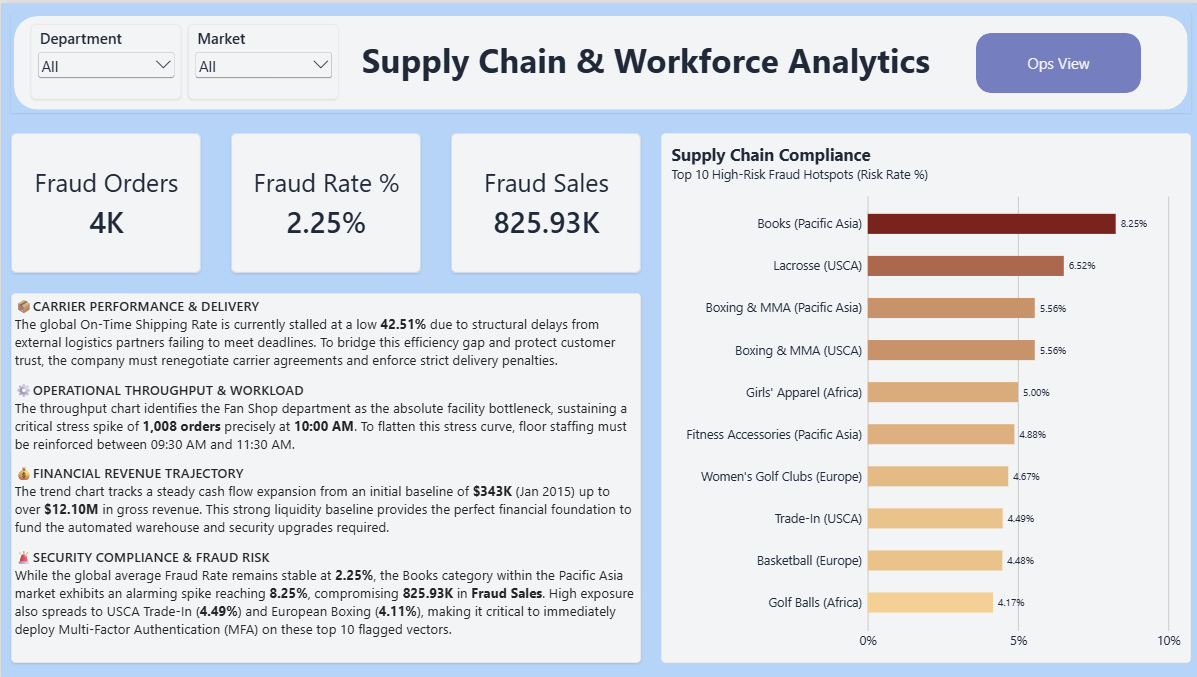

What the dashboard file says about the page in this screenshot:
{"tool":"powerbi","page":{"name":"Page 2","canvas":[1920,1080],"ordinal":1},"visuals":[{"type":"shape","box":[16,16,1888,160],"z":0},{"type":"slicer","title":"Workforce & Warehouse Analytics","fields":{"Values":["raw_data.Department Name"]},"box":[48,33.3,240,120],"z":1000},{"type":"textbox","box":[552,53.3,960,80],"z":2000},{"type":"slicer","fields":{"Values":["raw_data.Market"]},"box":[300,33.3,240,120],"z":3000},{"type":"cardVisual","fields":{"Data":["raw_data.Total Fraud Orders"]},"box":[16,208,304,224],"z":4000},{"type":"cardVisual","fields":{"Data":["raw_data.Fraud Rate %"]},"box":[368,208,304,224],"z":5000},{"type":"clusteredBarChart","title":"Supply Chain Compliance","fields":{"Category":["raw_data.Hotspot Segment"],"Y":["raw_data.Fraud Rate %"]},"box":[1056,208,848,848],"z":6000},{"type":"cardVisual","fields":{"Data":["raw_data.Fraud Revenue Lost"]},"box":[720,208,304,224],"z":7000},{"type":"textbox","box":[16,464,1008,592],"z":8000},{"type":"bookmarkNavigator","box":[1560,48,264,96],"z":9000}]}

Visuals, with their boxes in screenshot pixels (x1, y1, x2, y2), scaled from the page's 1920x1080 canvas onto the 1197x677 screenshot:
shape: (x1=10, y1=10, x2=1187, y2=110)
"Workforce & Warehouse Analytics" slicer: (x1=30, y1=21, x2=180, y2=96)
textbox: (x1=344, y1=33, x2=943, y2=84)
slicer - raw_data.Market: (x1=187, y1=21, x2=337, y2=96)
cardVisual - raw_data.Total Fraud Orders: (x1=10, y1=130, x2=200, y2=271)
cardVisual - raw_data.Fraud Rate %: (x1=229, y1=130, x2=419, y2=271)
"Supply Chain Compliance" clusteredBarChart: (x1=658, y1=130, x2=1187, y2=662)
cardVisual - raw_data.Fraud Revenue Lost: (x1=449, y1=130, x2=638, y2=271)
textbox: (x1=10, y1=291, x2=638, y2=662)
bookmarkNavigator: (x1=973, y1=30, x2=1137, y2=90)
